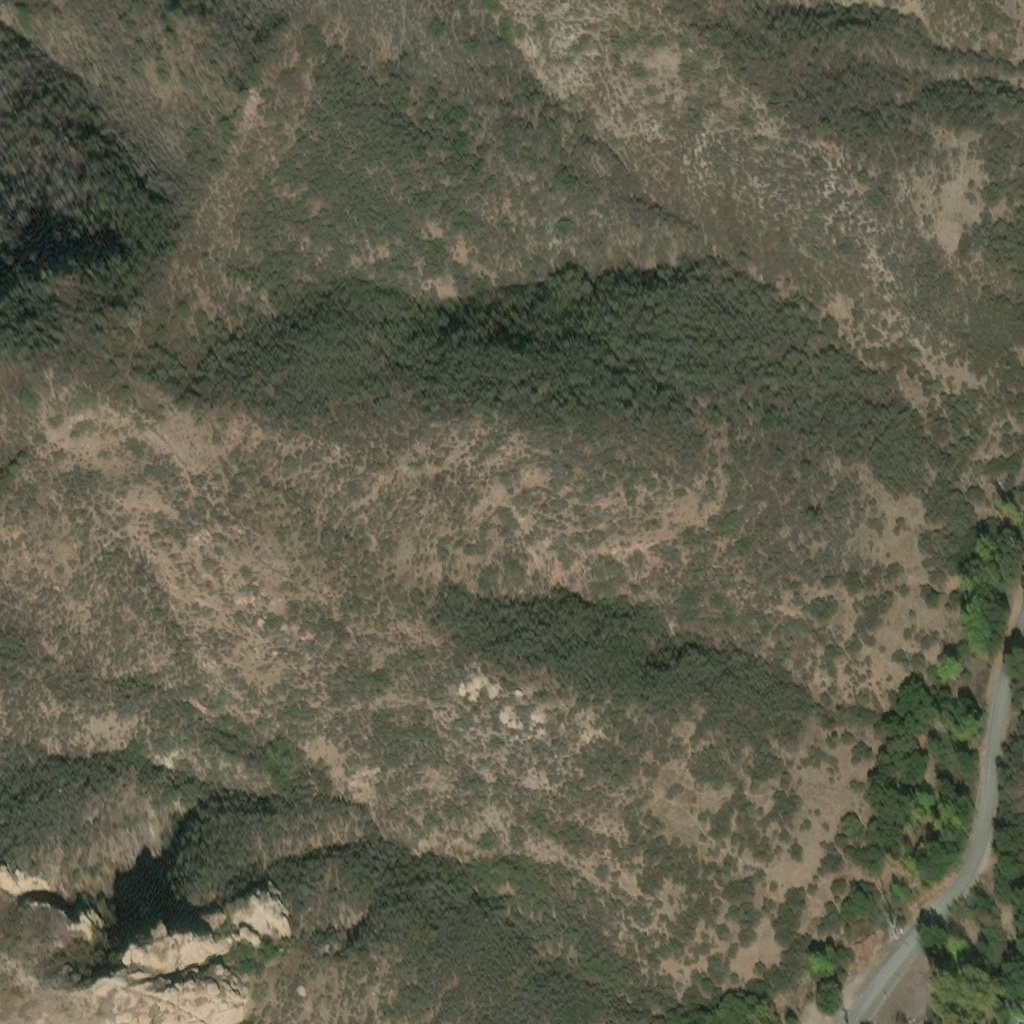4 un-classified: (1001, 1000, 1012, 1010)
